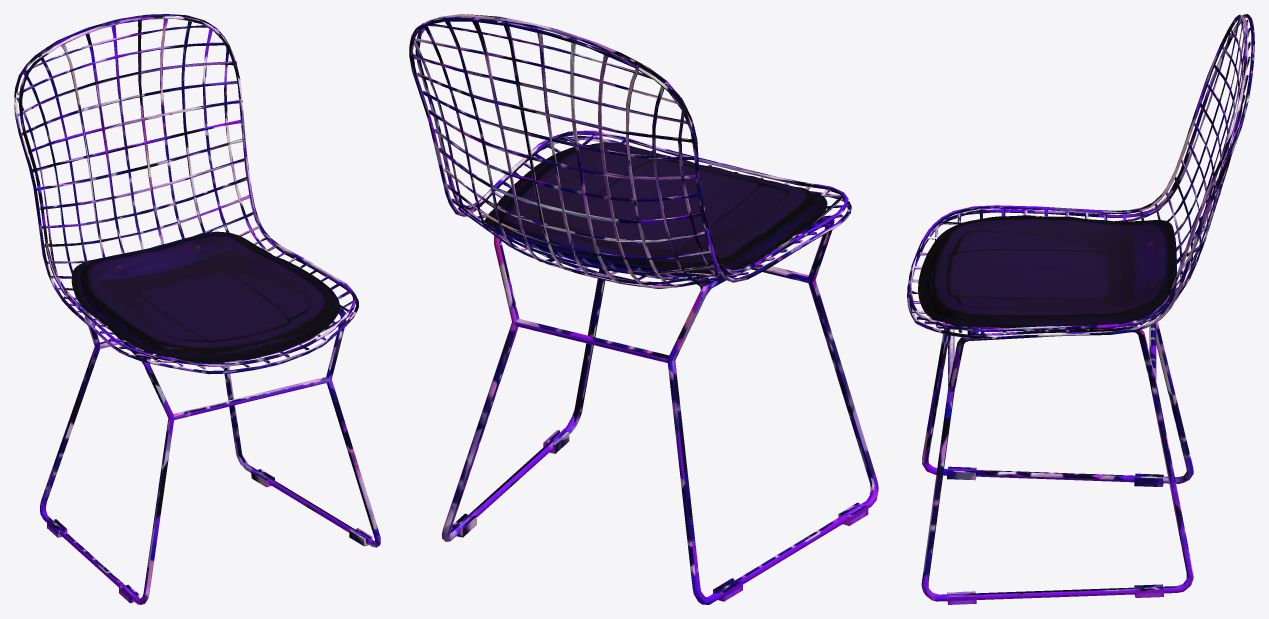
Rendered from edited_mesh.glb.
The picture shows the model from 3 angles, left to right: view 1: azimuth 30°, elevation 25°; view 2: azimuth 150°, elevation 25°; view 3: azimuth 270°, elevation 25°; orthographic projection. The views are drawn at different scales.
Parts seen in each view (by area): view 1: solid_001_wire; view 2: solid_001_wire; view 3: solid_001_wire.
Boxes of the visible parts, left/top/right/bottom form: solid_001_wire: left=14, top=14, right=380, bottom=604; solid_001_wire: left=409, top=14, right=878, bottom=604; solid_001_wire: left=907, top=14, right=1254, bottom=604.
Bounding box in the file's own units: 0.8537 × 1.52 × 0.9609.
1 material, 1 textured.
